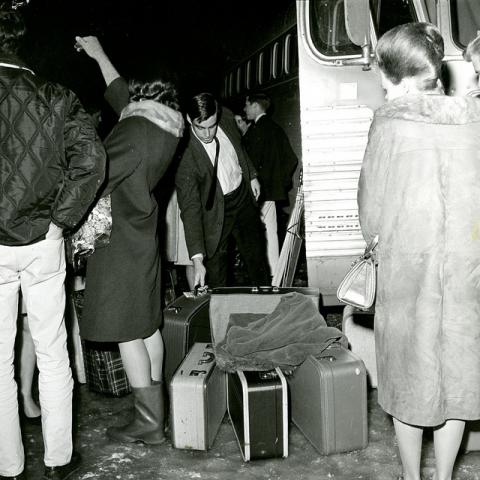bus: (209, 0, 479, 310)
